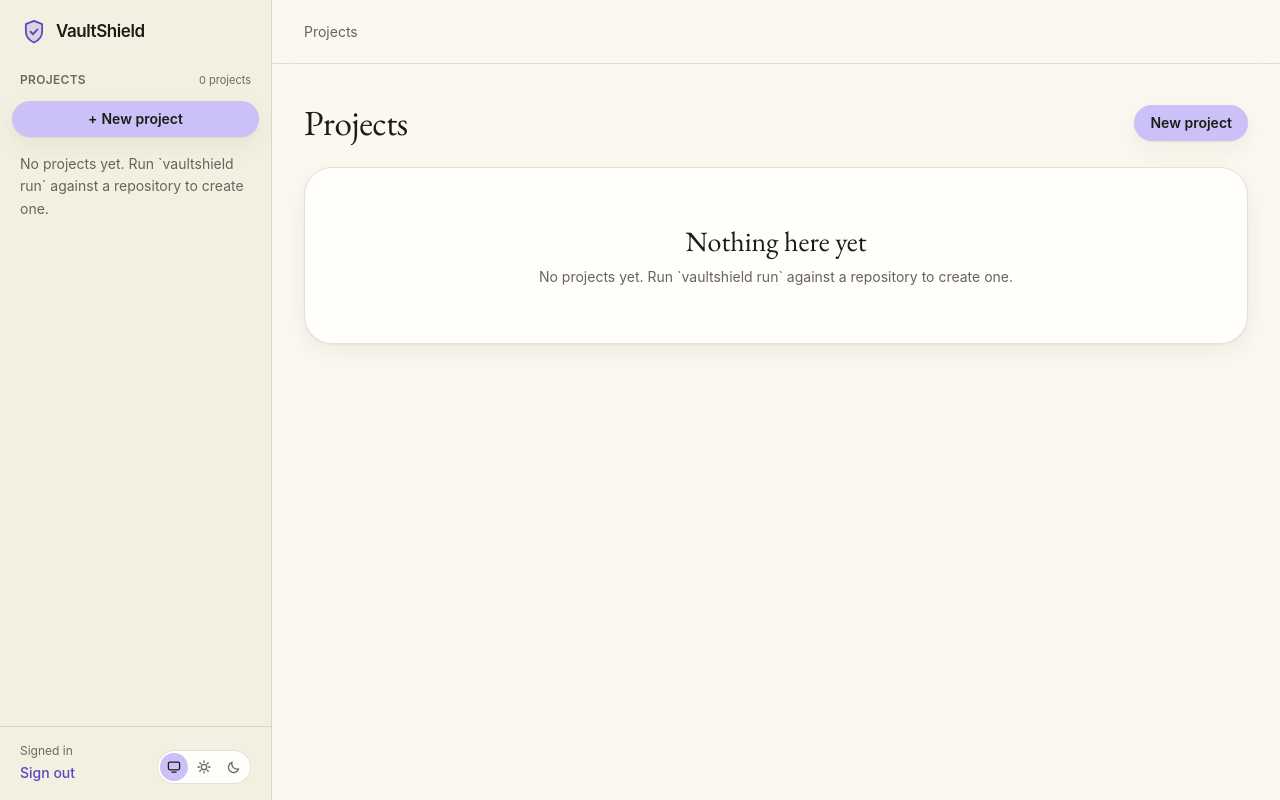
Scenario: surfaces a backend 400 inside the still-open modal
Expected: the button "Sign out" is shown, [20, 763, 75, 783]
Click the button "+ New project" at (136,118), box [12, 100, 259, 136]
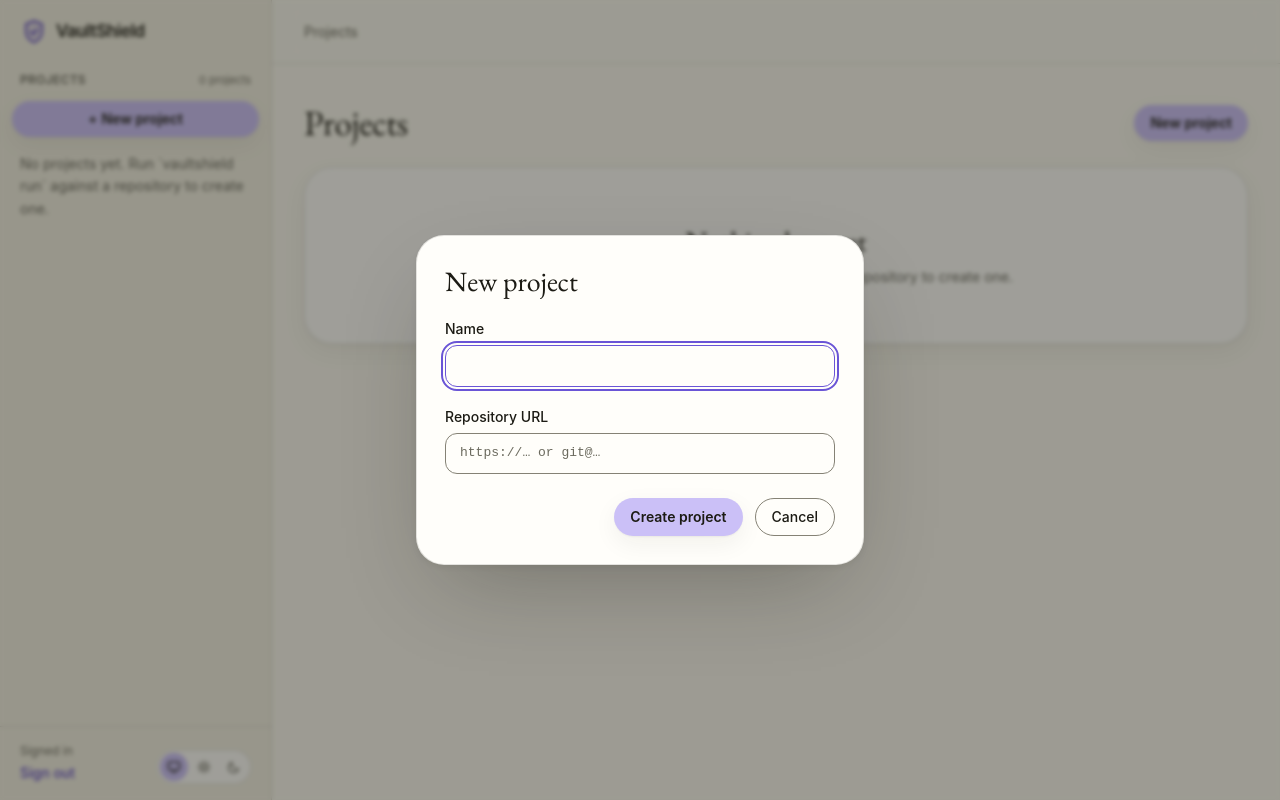
Type "dupe" into the field labelled "Name" at (640,366), box [445, 345, 835, 387]
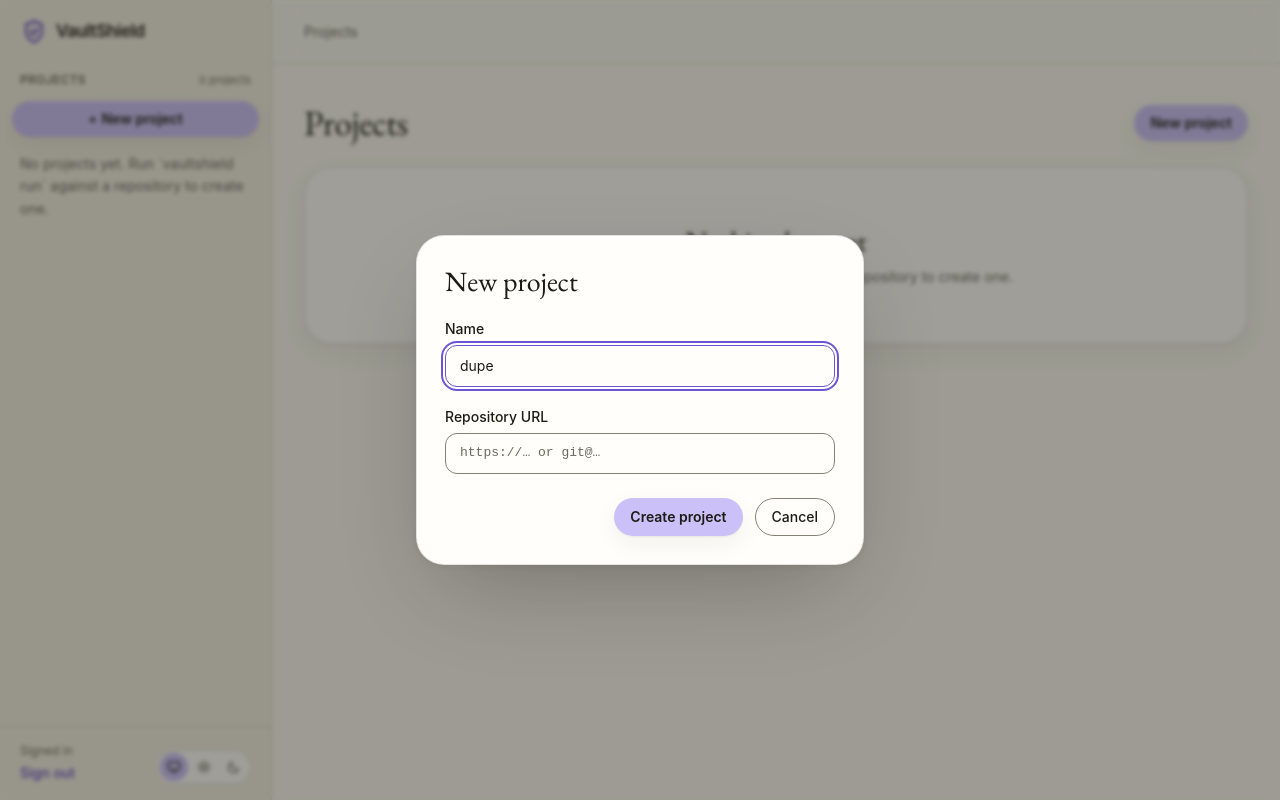
Type "git@github.com:acme/dupe.git" into the field labelled "Repository URL" at (640,454), box [445, 433, 835, 474]
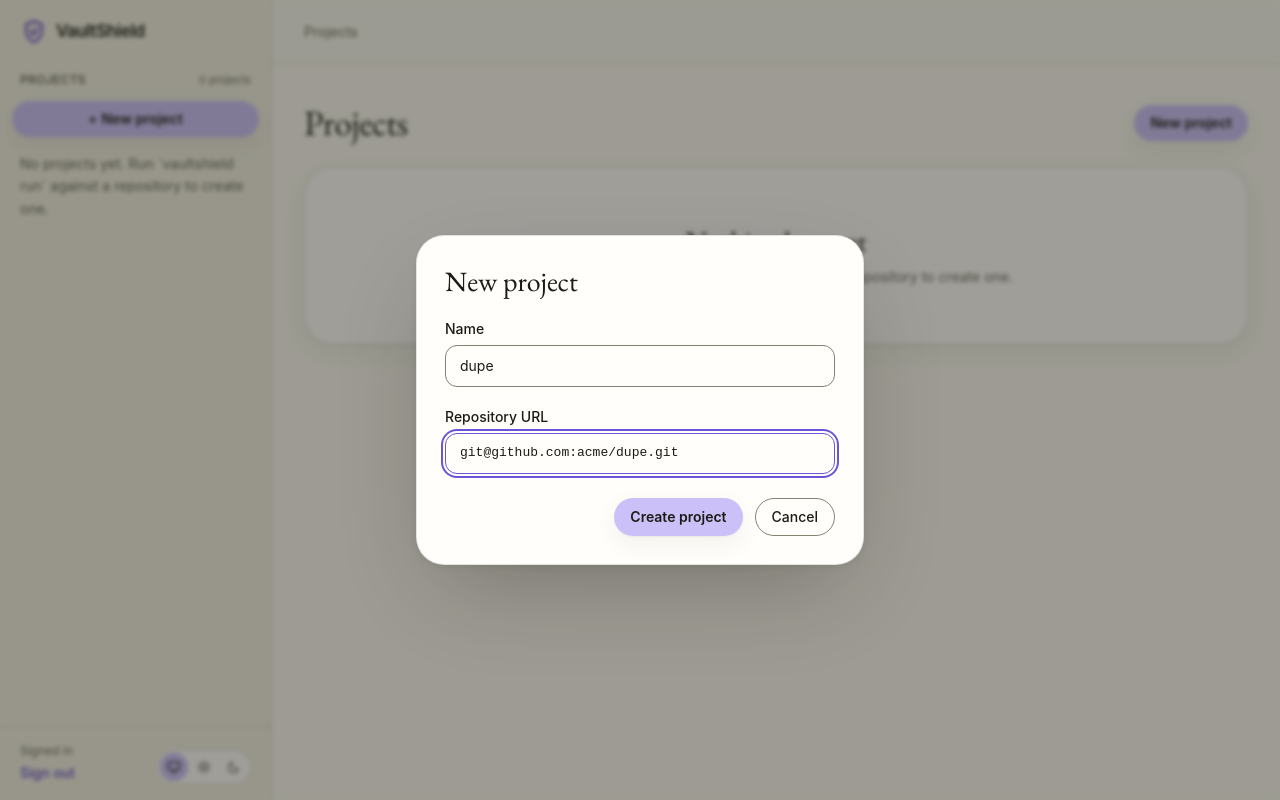
Click the button "Create project" at (678,517), box [614, 498, 742, 536]
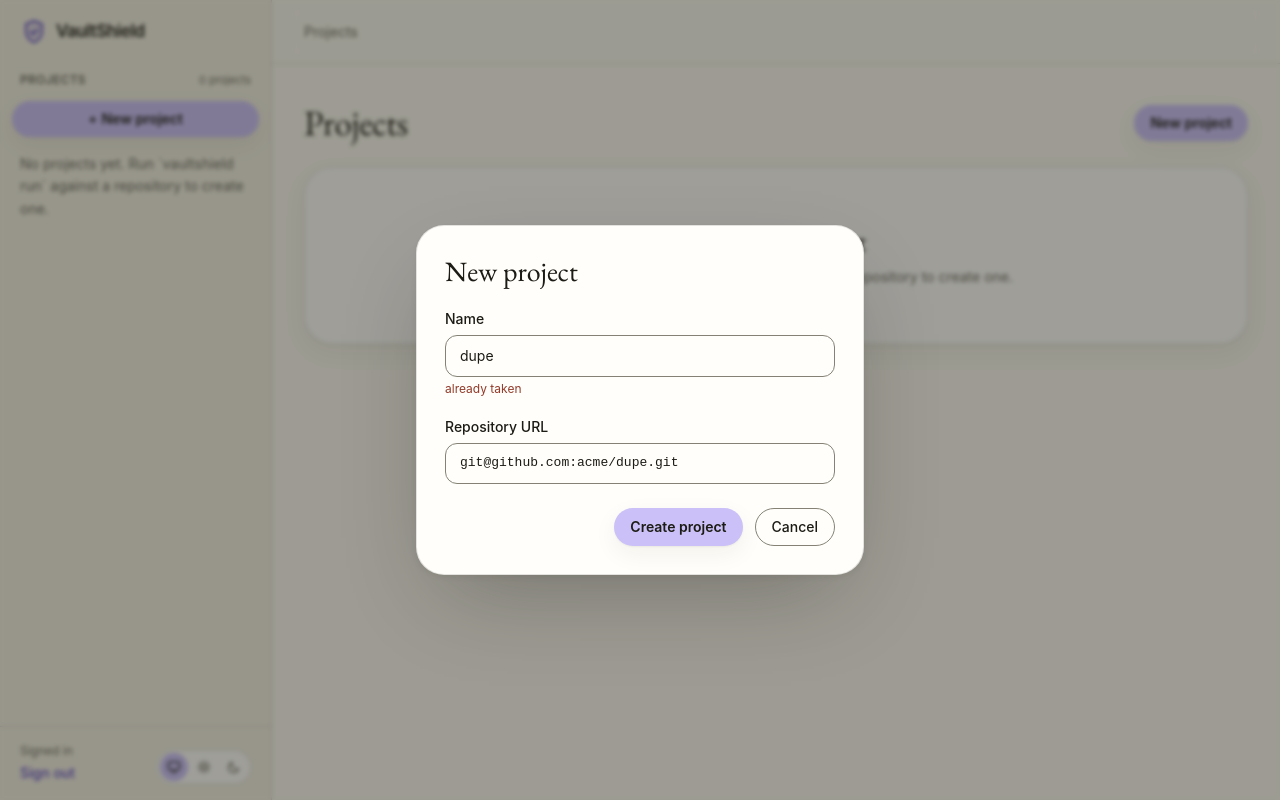
Now the dialog is shown, box [416, 225, 864, 575]
Now the text "already taken" is shown, box [445, 381, 522, 396]
